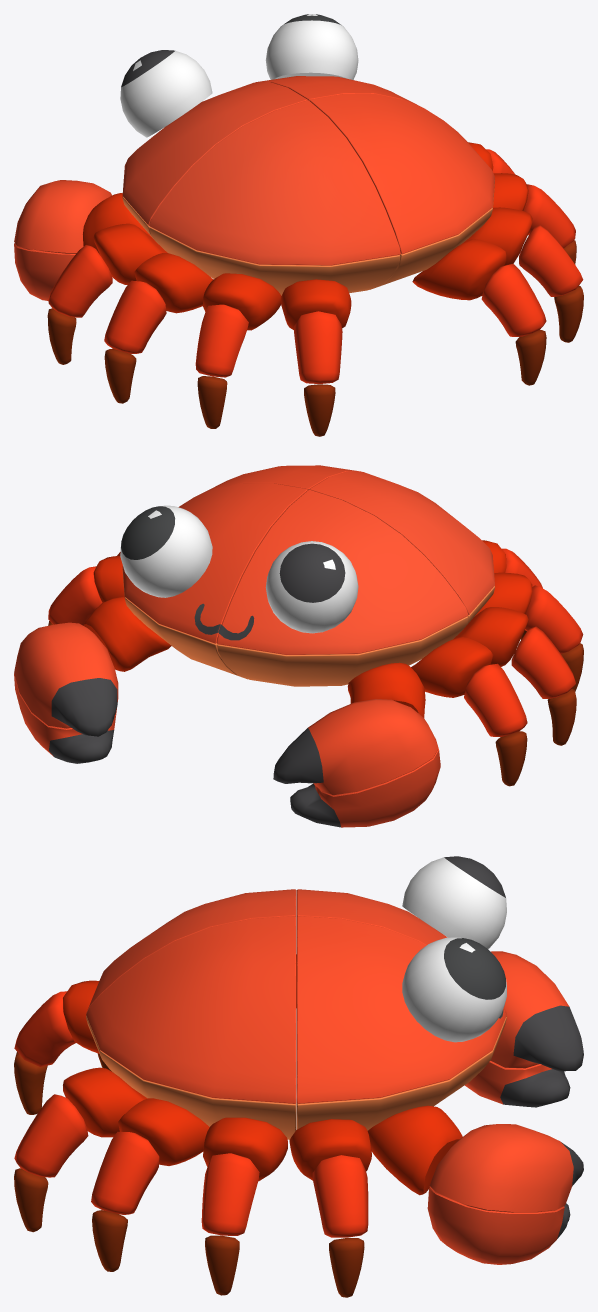
File: Level_P_17.fbx
3 renders of one model, top to bottom at view 1: azimuth 30°, elevation 25°; view 2: azimuth 150°, elevation 25°; view 3: azimuth 270°, elevation 25°, orthographic. The views are drawn at different scales.
Parts seen in each view (by area): view 1: Crab_15.001, Crab_16.001, Crab_31.001, Crab_36.001, Crab_35.001, Crab_13.001, Crab_39.001, Crab_7.001, Crab_4.001, Crab_19.001, Crab_3.001, Crab_10.001 (+19 smaller); view 2: Crab_31.001, Crab_39.001, Crab_32.001, Crab_40.001, Crab_15.001, Crab_36.001, Crab_35.001, Crab_29.001, Crab_38.001, Crab_33.001, Crab_23.001, Crab_25.001 (+14 smaller); view 3: Crab_16.001, Crab_32.001, Crab_40.001, Crab_35.001, Crab_39.001, Crab_36.001, Crab_37.001, Crab_33.001, Crab_15.001, Crab_30.001, Crab_14.001, Crab_26.001 (+16 smaller).
Boxes of the visible parts, bbox=[...] form: Crab_15.001: bbox=[149, 100, 400, 265]; Crab_16.001: bbox=[309, 94, 494, 254]; Crab_31.001: bbox=[122, 82, 307, 225]; Crab_36.001: bbox=[120, 50, 212, 137]; Crab_35.001: bbox=[265, 14, 358, 79]; Crab_13.001: bbox=[149, 227, 400, 295]; Crab_39.001: bbox=[14, 180, 111, 253]; Crab_7.001: bbox=[412, 239, 506, 300]; Crab_4.001: bbox=[294, 311, 342, 383]; Crab_19.001: bbox=[104, 280, 166, 353]; Crab_3.001: bbox=[481, 264, 546, 336]; Crab_10.001: bbox=[195, 304, 248, 377]; Crab_31.001: bbox=[216, 489, 468, 654]; Crab_39.001: bbox=[273, 699, 438, 795]; Crab_32.001: bbox=[122, 483, 307, 643]; Crab_40.001: bbox=[14, 622, 118, 736]; Crab_15.001: bbox=[309, 471, 494, 614]; Crab_36.001: bbox=[265, 541, 358, 633]; Crab_35.001: bbox=[120, 505, 212, 597]; Crab_29.001: bbox=[217, 616, 468, 686]; Crab_38.001: bbox=[290, 748, 440, 827]; Crab_33.001: bbox=[83, 596, 171, 671]; Crab_23.001: bbox=[411, 637, 493, 697]; Crab_25.001: bbox=[464, 663, 527, 736]; Crab_16.001: bbox=[86, 916, 296, 1103]; Crab_32.001: bbox=[296, 916, 506, 1103]; Crab_40.001: bbox=[429, 1124, 583, 1212]; Crab_35.001: bbox=[402, 937, 506, 1042]; Crab_39.001: bbox=[490, 951, 583, 1071]; Crab_36.001: bbox=[402, 856, 506, 948]; Crab_37.001: bbox=[427, 1187, 570, 1264]; Crab_33.001: bbox=[367, 1105, 462, 1195]; Crab_15.001: bbox=[86, 889, 296, 1013]; Crab_30.001: bbox=[296, 1017, 506, 1130]; Crab_14.001: bbox=[86, 1017, 296, 1139]; Crab_26.001: bbox=[312, 1155, 368, 1237].
Size of the model in its own units: 6.35 by 3.05 by 5.8.
